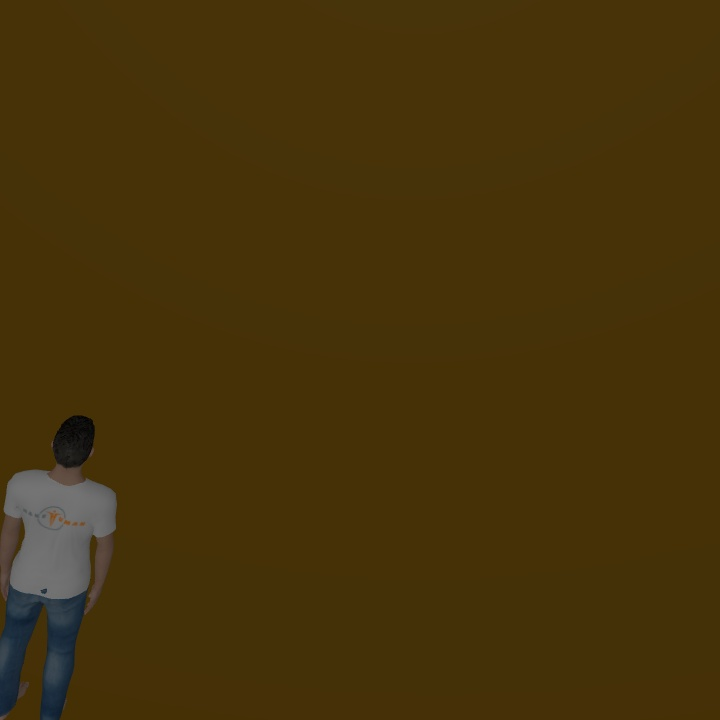victim: (1, 413, 116, 714)
